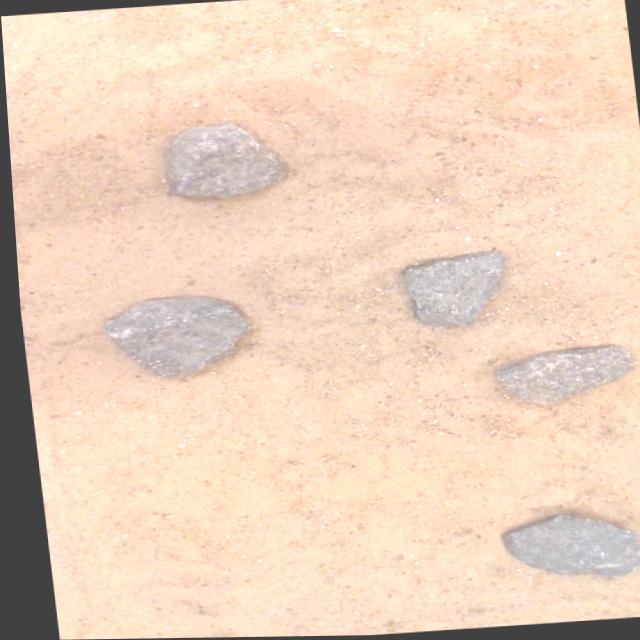rock: (100, 297, 244, 378), (161, 122, 284, 197), (496, 517, 633, 578), (490, 348, 631, 406), (401, 252, 501, 328)
